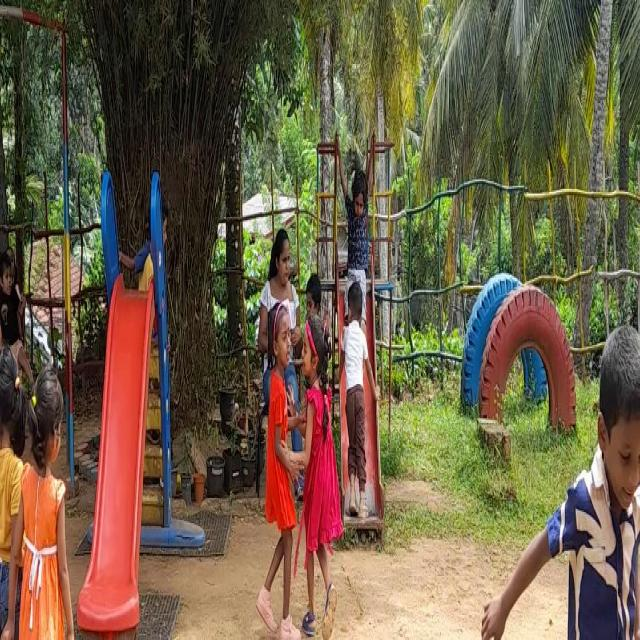child: (539, 321, 640, 640), (8, 371, 81, 640), (251, 310, 300, 640), (300, 312, 333, 640), (0, 353, 31, 640), (342, 274, 369, 511), (0, 237, 36, 338)
